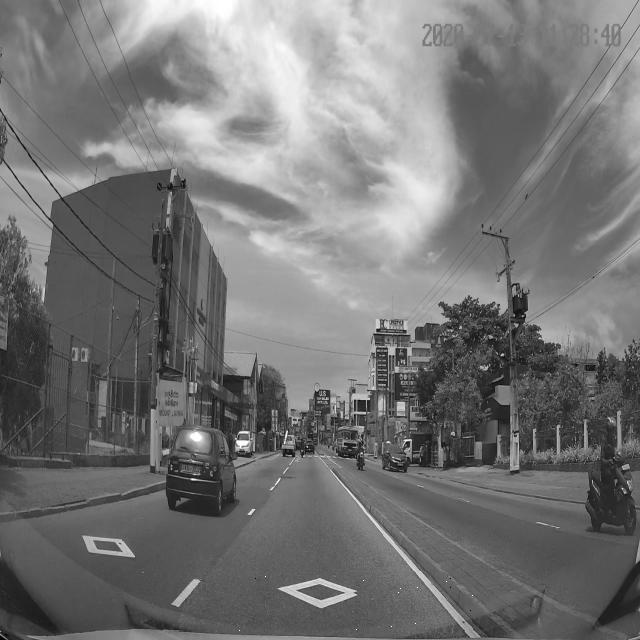diamond: (164, 572, 473, 631)
